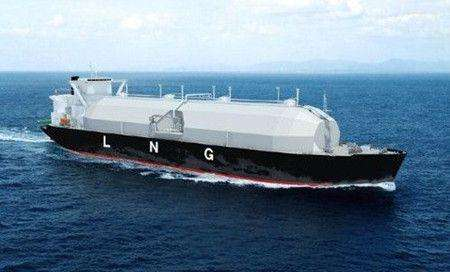Cargoship: (37, 72, 408, 189)
